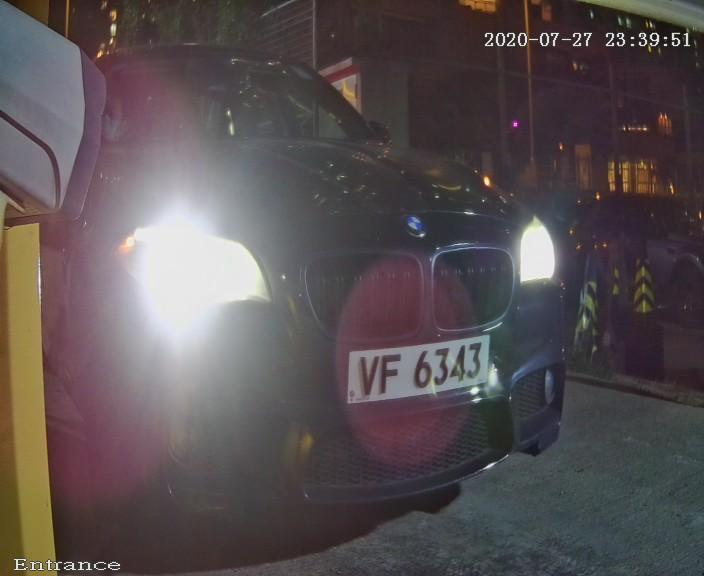privatecar: (71, 1, 610, 539)
